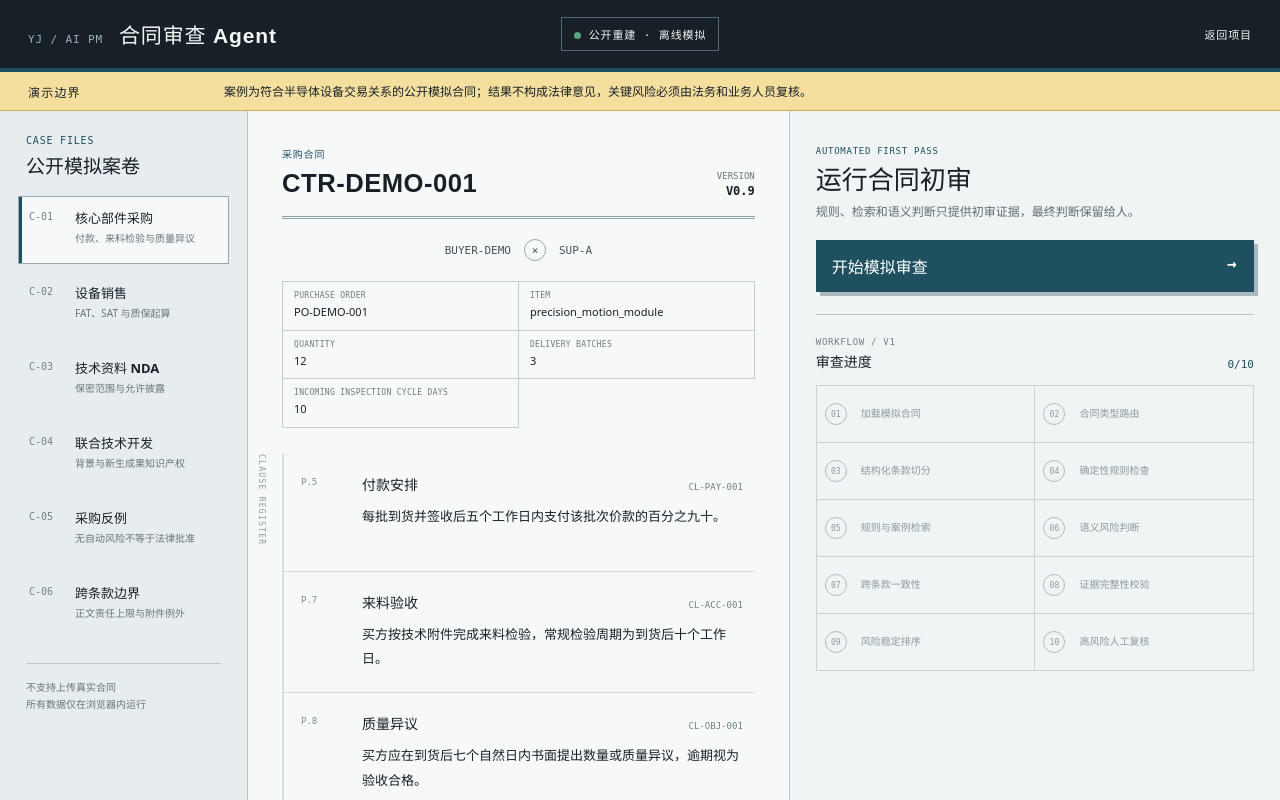
Scenario: contract review console › shows the safe counterexample without declaring legal approval
Click the button "C-05 采购反例 无自动风险不等于法律批准": (124, 530) left=18, top=496, right=229, bottom=564
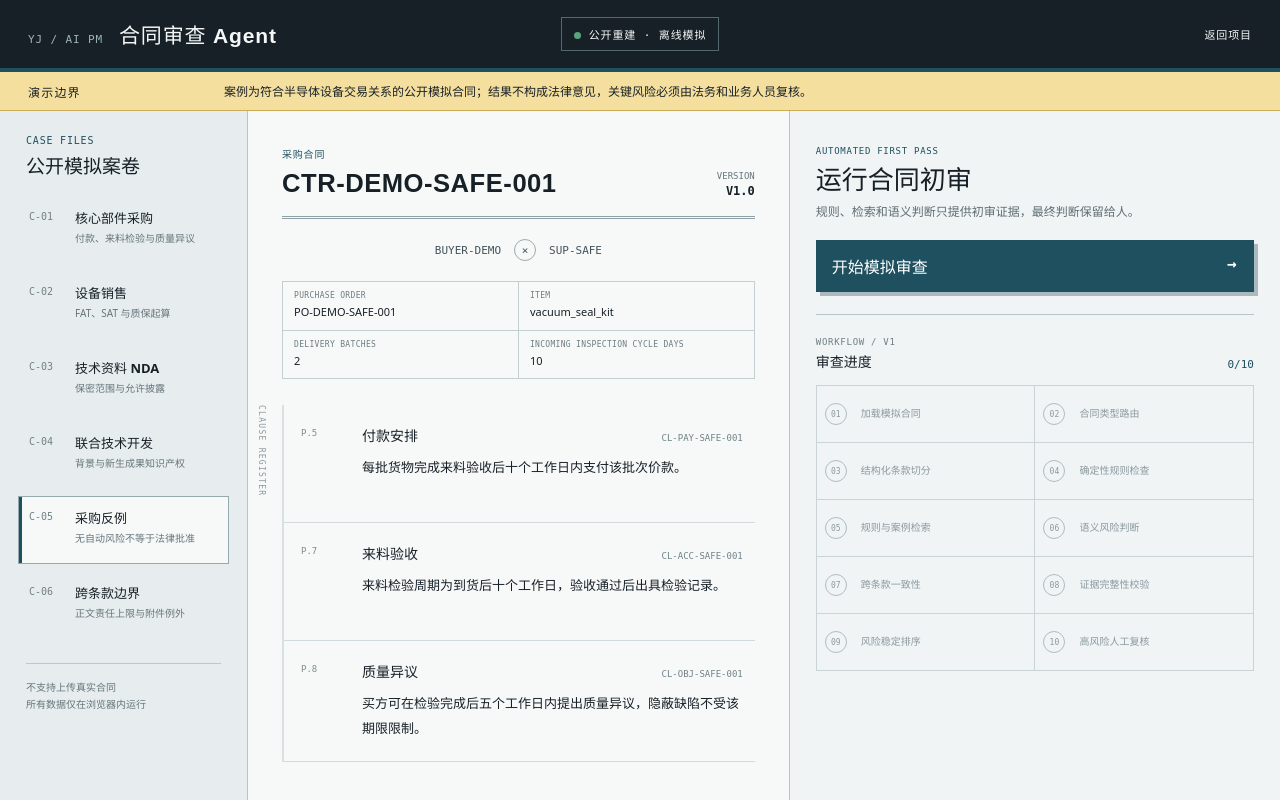
Click the button "开始模拟审查 →": (880, 267) left=816, top=240, right=1254, bottom=292
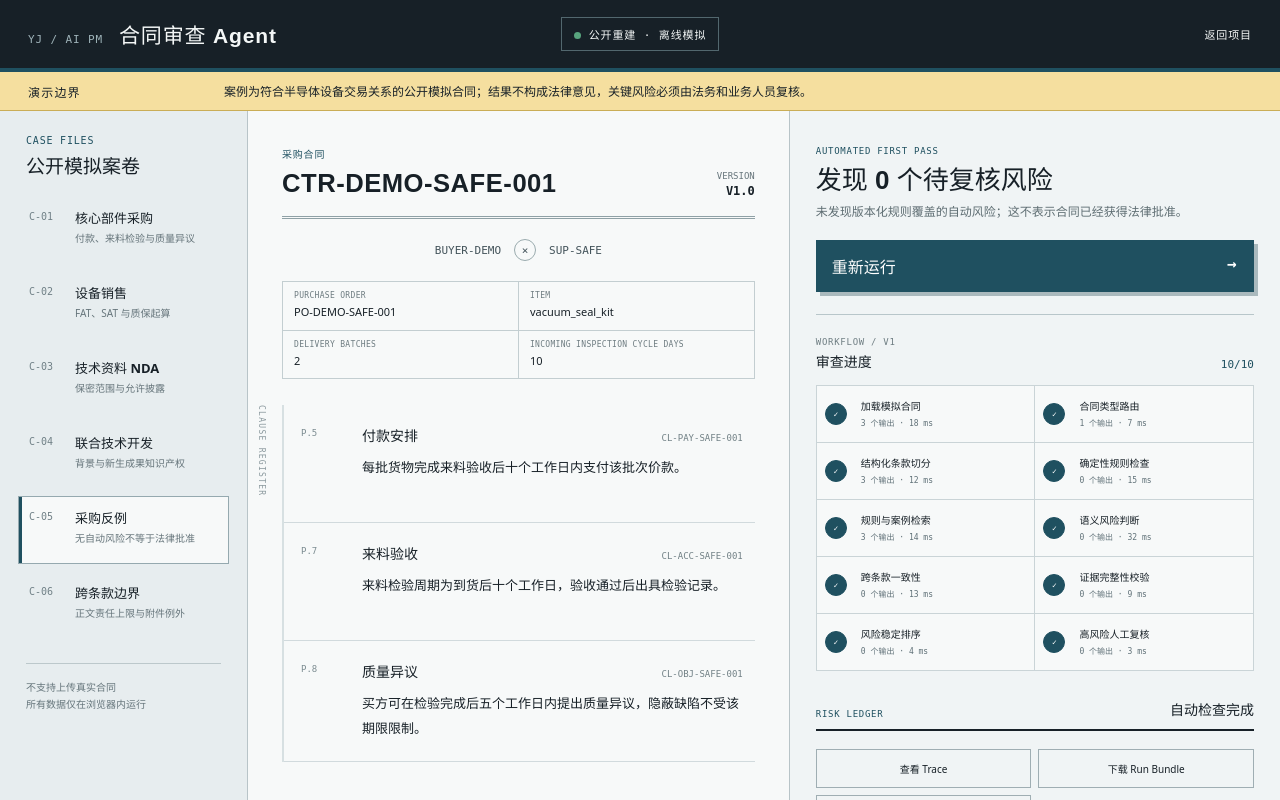
Expected: the text "未发现版本化规则覆盖的自动风险；这不表示合同已经获得法律批准。" is shown, left=816, top=203, right=1188, bottom=220
